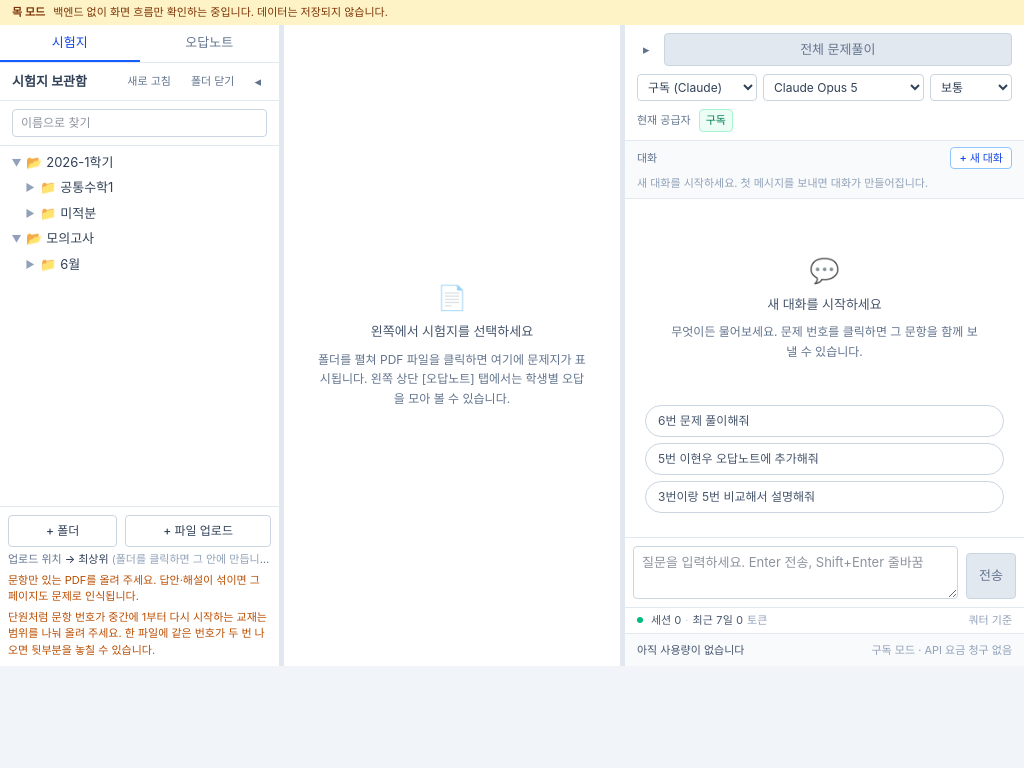
Scenario: 좌측 트리 우클릭 이동 › 우클릭 메뉴의 [이동…] 이 대상 선택 창을 연다
Expected: the text "2026-1학기" is shown, [46,154,114,170]
Right-click the list item "▶ 📁 공통수학1" at (69, 187), box [25,179,113,195]
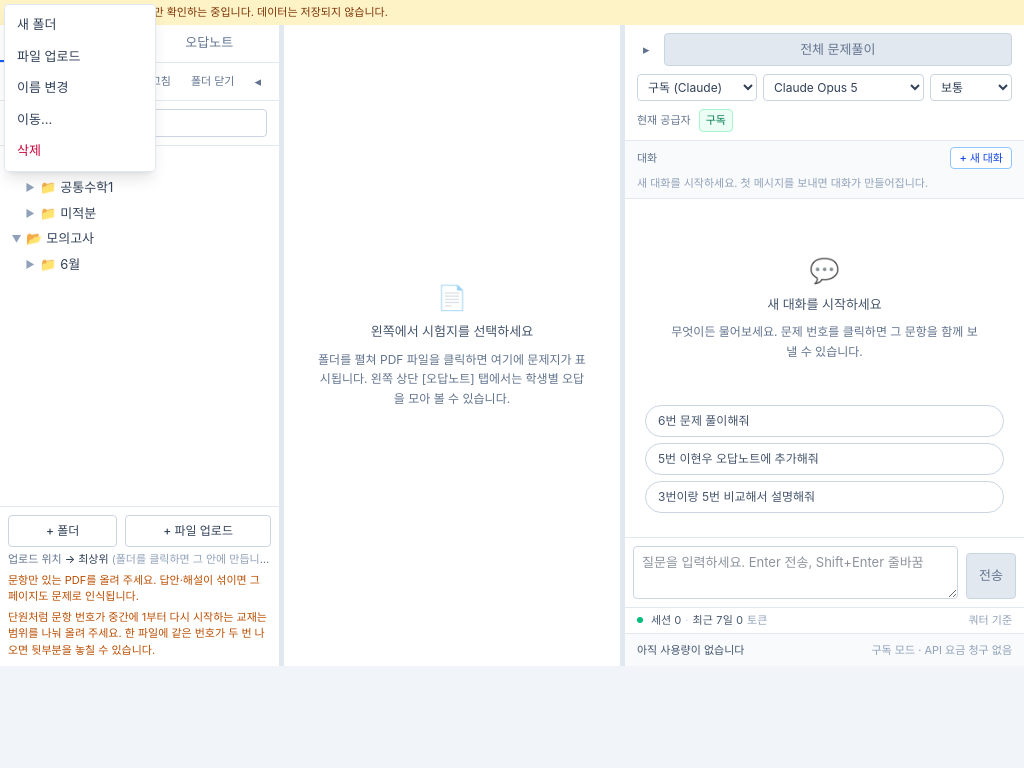
Click the menu item "이동…" at (80, 119), box [5,104,155,135]
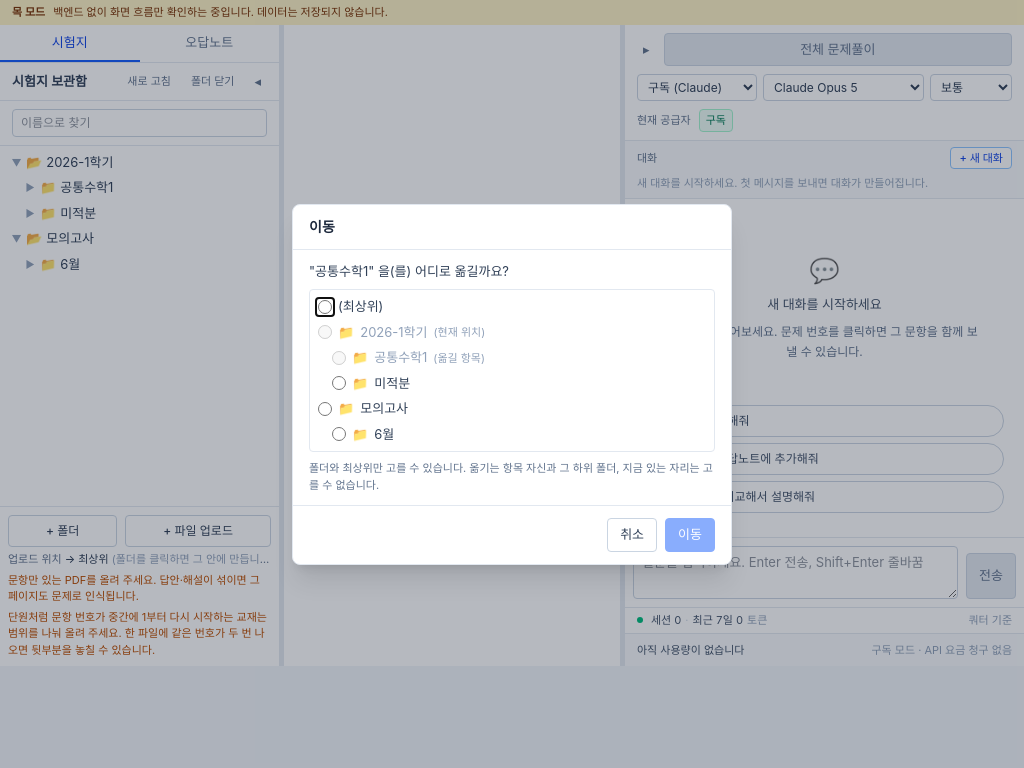
Now the text "\"공통수학1\" 을(를) 어디로 옮길까요?" is shown, box [309,262,509,278]
Now the radio button labelled "(최상위)" is enabled, box [318,300,332,314]
Now the radio button labelled "📁 공통수학1 (옮길 항목)" is disabled, box [332,351,346,365]
